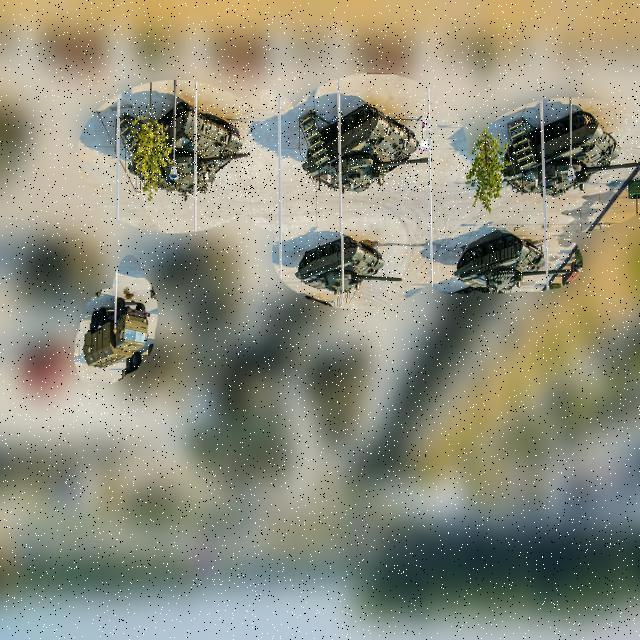MIL_MBT: (126, 102, 254, 199), (298, 104, 434, 192), (501, 108, 639, 182), (452, 229, 572, 295), (293, 236, 403, 297)
